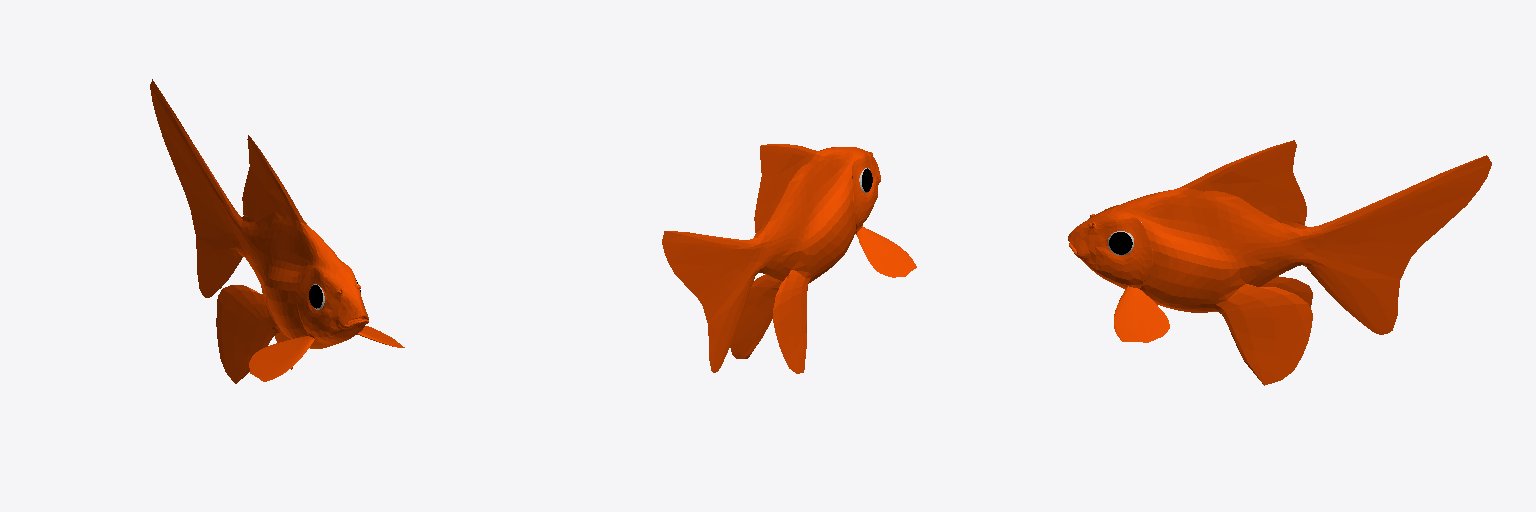
File: kingyo.obj
3 renders of one model, left to right at view 1: azimuth 30°, elevation 25°; view 2: azimuth 150°, elevation 25°; view 3: azimuth 270°, elevation 25°, orthographic.
Bounding box in the file's own units: 0.0269 × 0.0415 × 0.0689.